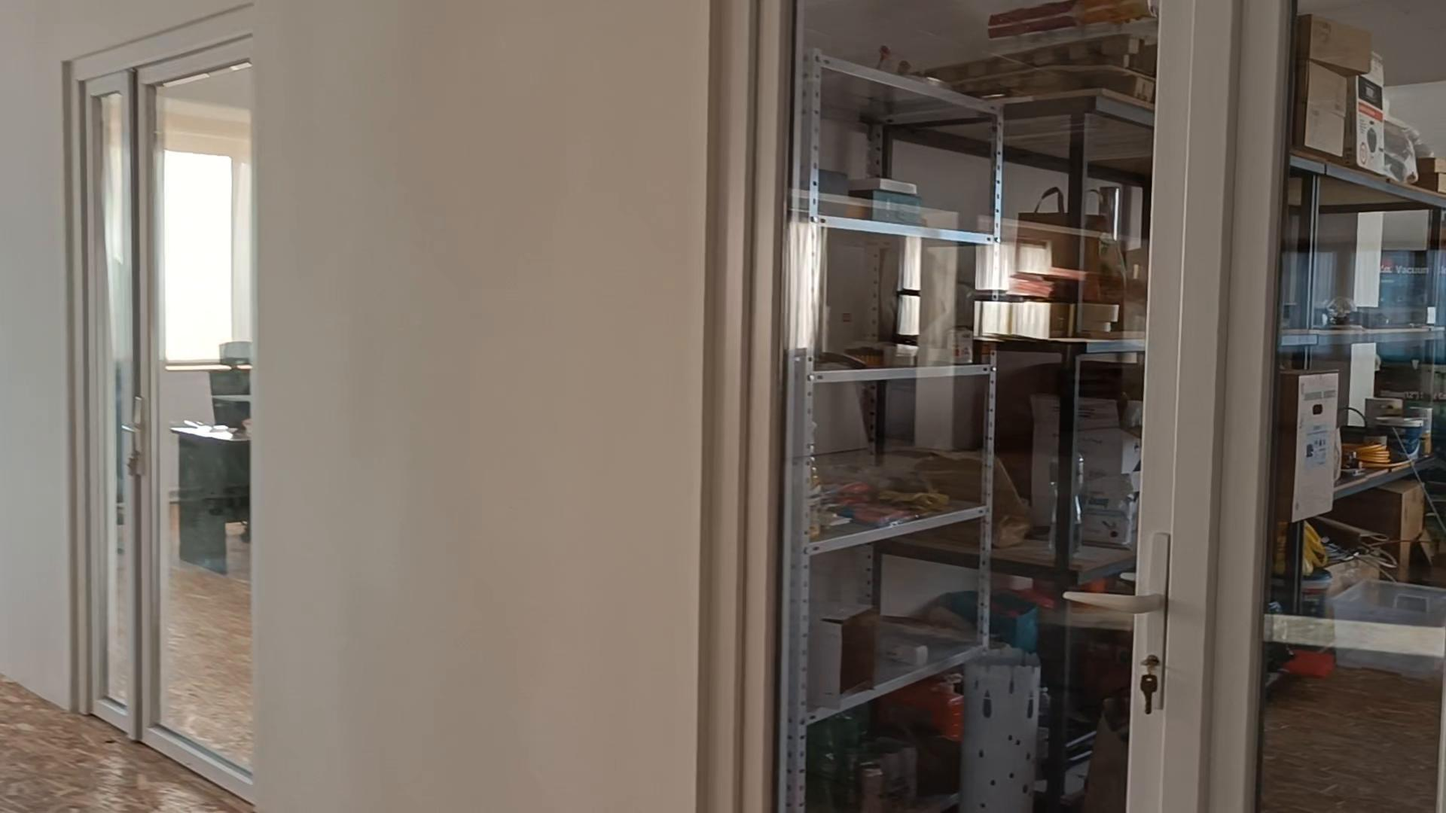floor: (0, 676, 252, 812)
wall: (249, 4, 707, 812)
